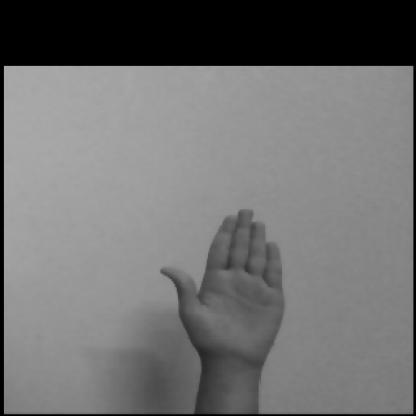palm: (140, 184, 340, 390)
